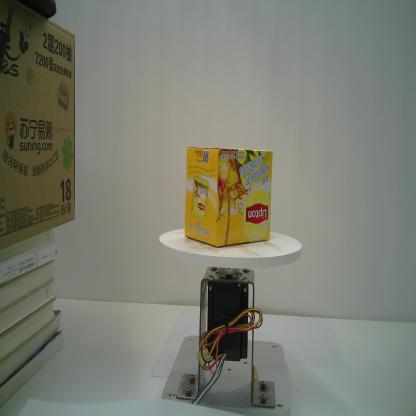Instant Drink: (184, 145, 273, 249)
